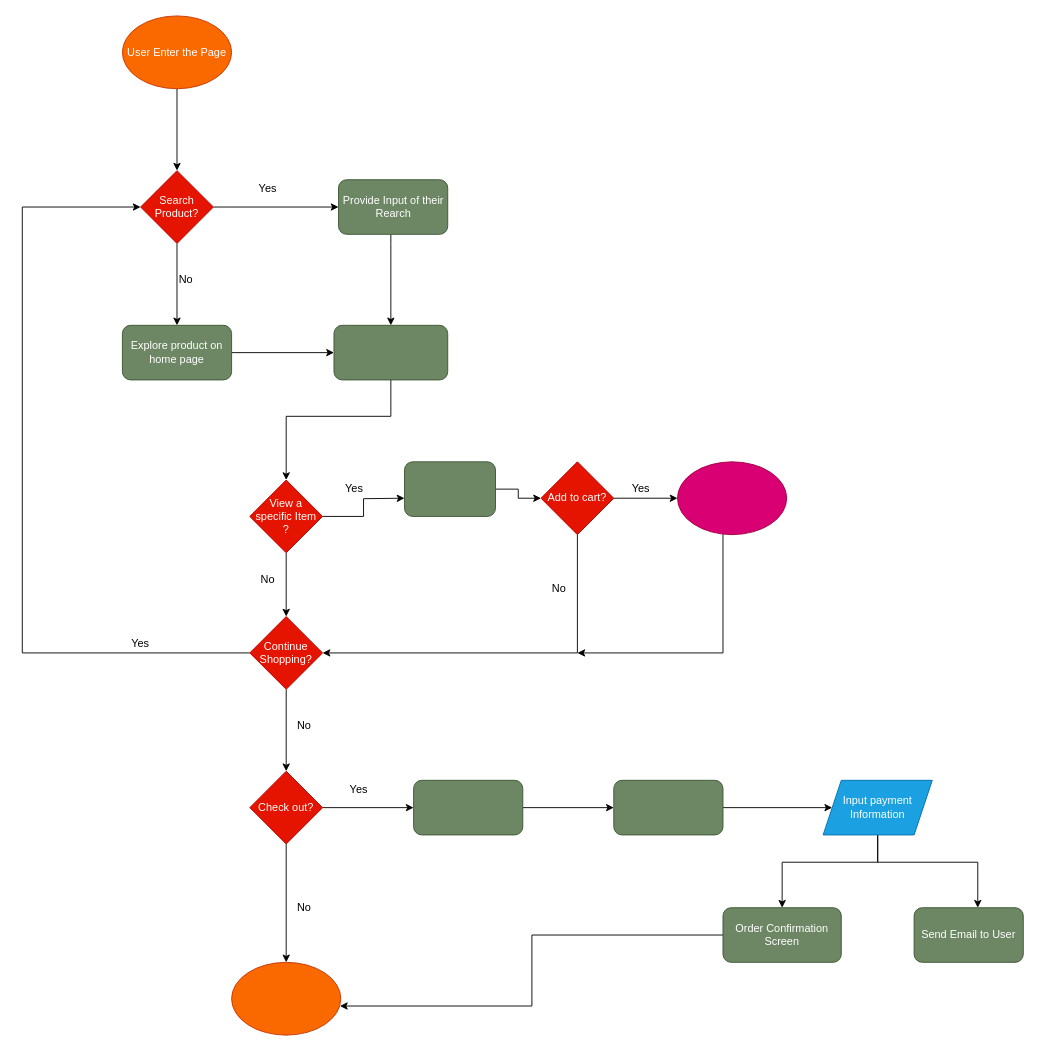
Some shapes in this 1039 by 1051 pixel diagram are drawn without their labels. The shapes that lost their labels are listed below. From the top down, each one's centre as x and y in pixels, then its label:
(x=390, y=352): Begin looking over the products
(x=449, y=488): The page of the item open
(x=732, y=498): Cart confirmation
(x=468, y=807): Cart Screen
(x=668, y=807): Payment Screen
(x=286, y=998): User leave the page
